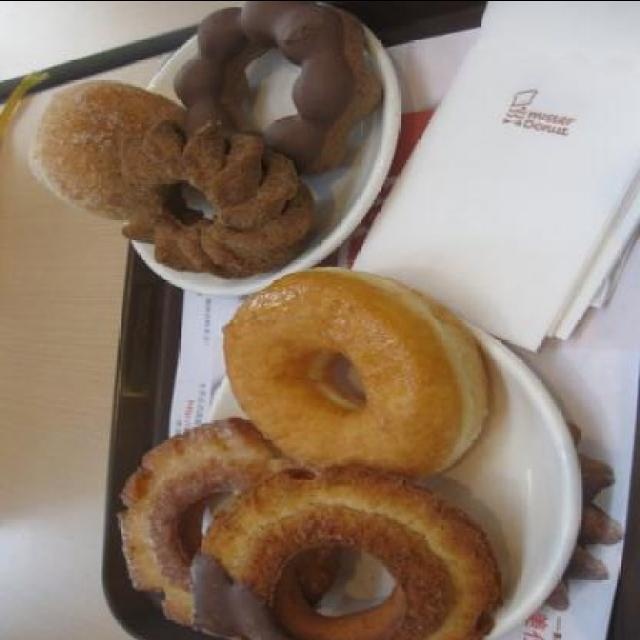Donuts: (43, 1, 515, 634)
